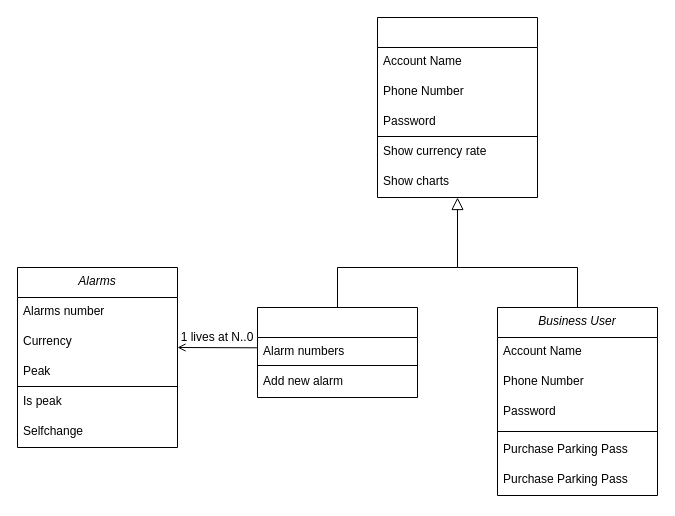
The diagram is 675 pixels wide and 516 high, and some of its shapes have lost their labels. Here are the shapes that lost their labels. From the top down, the box of each, then its label:
(376, 16, 538, 198): Unregistered User
(256, 306, 418, 398): Typical User
